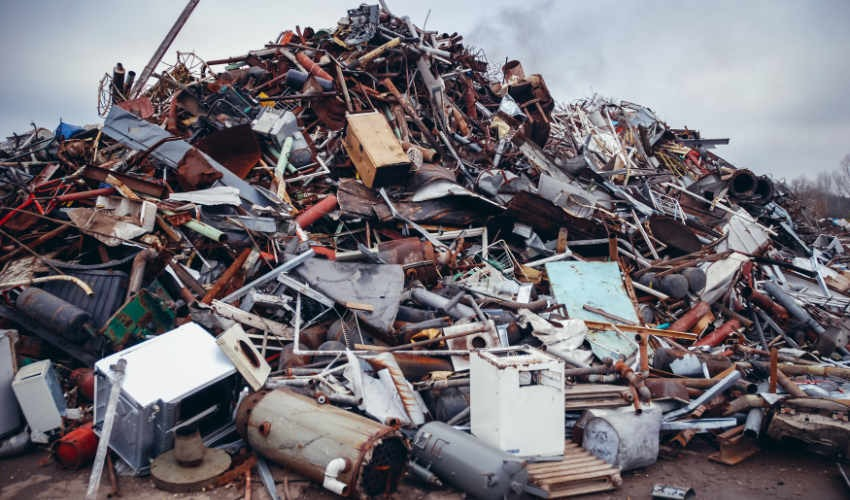Tanque: (254, 391, 383, 476), (415, 424, 507, 497), (20, 286, 90, 332)
electrodomesticos: (114, 323, 231, 425), (482, 343, 557, 457)
